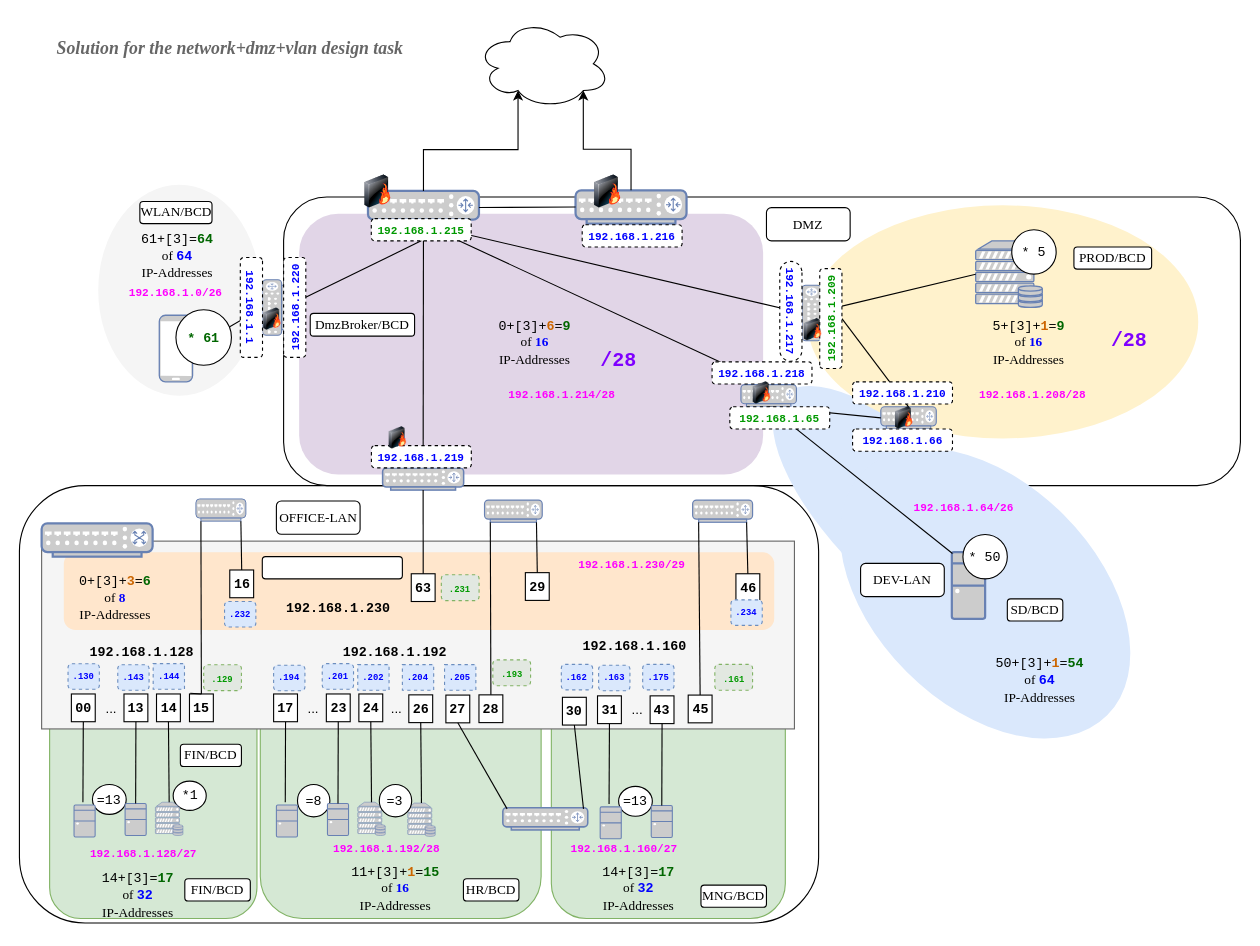
Some shapes in this 1260 by 946 pixel diagram are drawn without their labels. Here are the shapes that lost their labels. From the top down, the centre of each, then its label:
At (543,63): "Internet".
At (331,567): "OfficeLanBroker/BCD".
